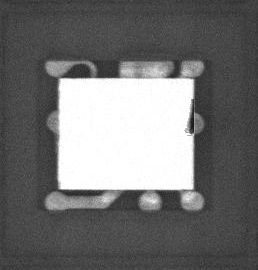DIE_BROKEN: (183, 97, 198, 139)
